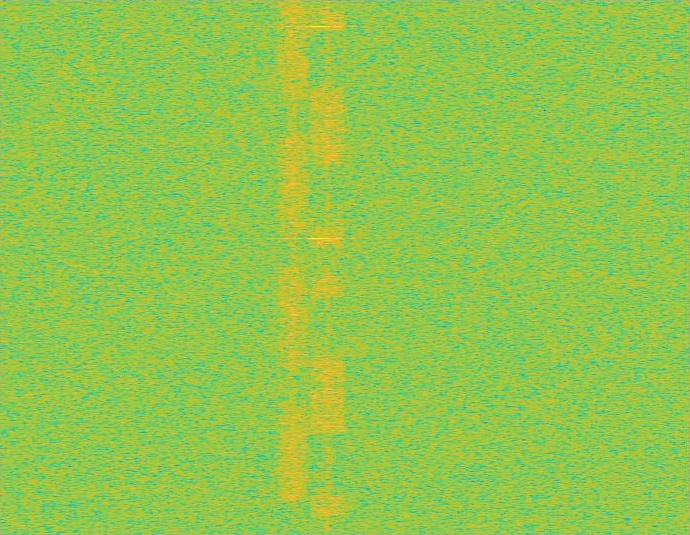5G: (276, 0, 311, 534)
DSSS: (289, 0, 297, 534), (325, 0, 330, 534)
LTE: (311, 0, 345, 534)
Radar: (312, 0, 325, 534)
